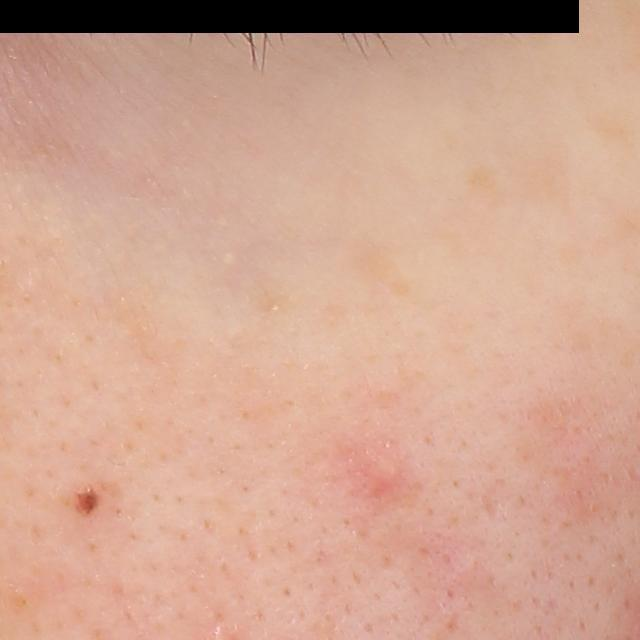melasma: (500, 139, 577, 215), (585, 101, 640, 146), (465, 160, 505, 200)
nevus: (70, 474, 104, 515)
